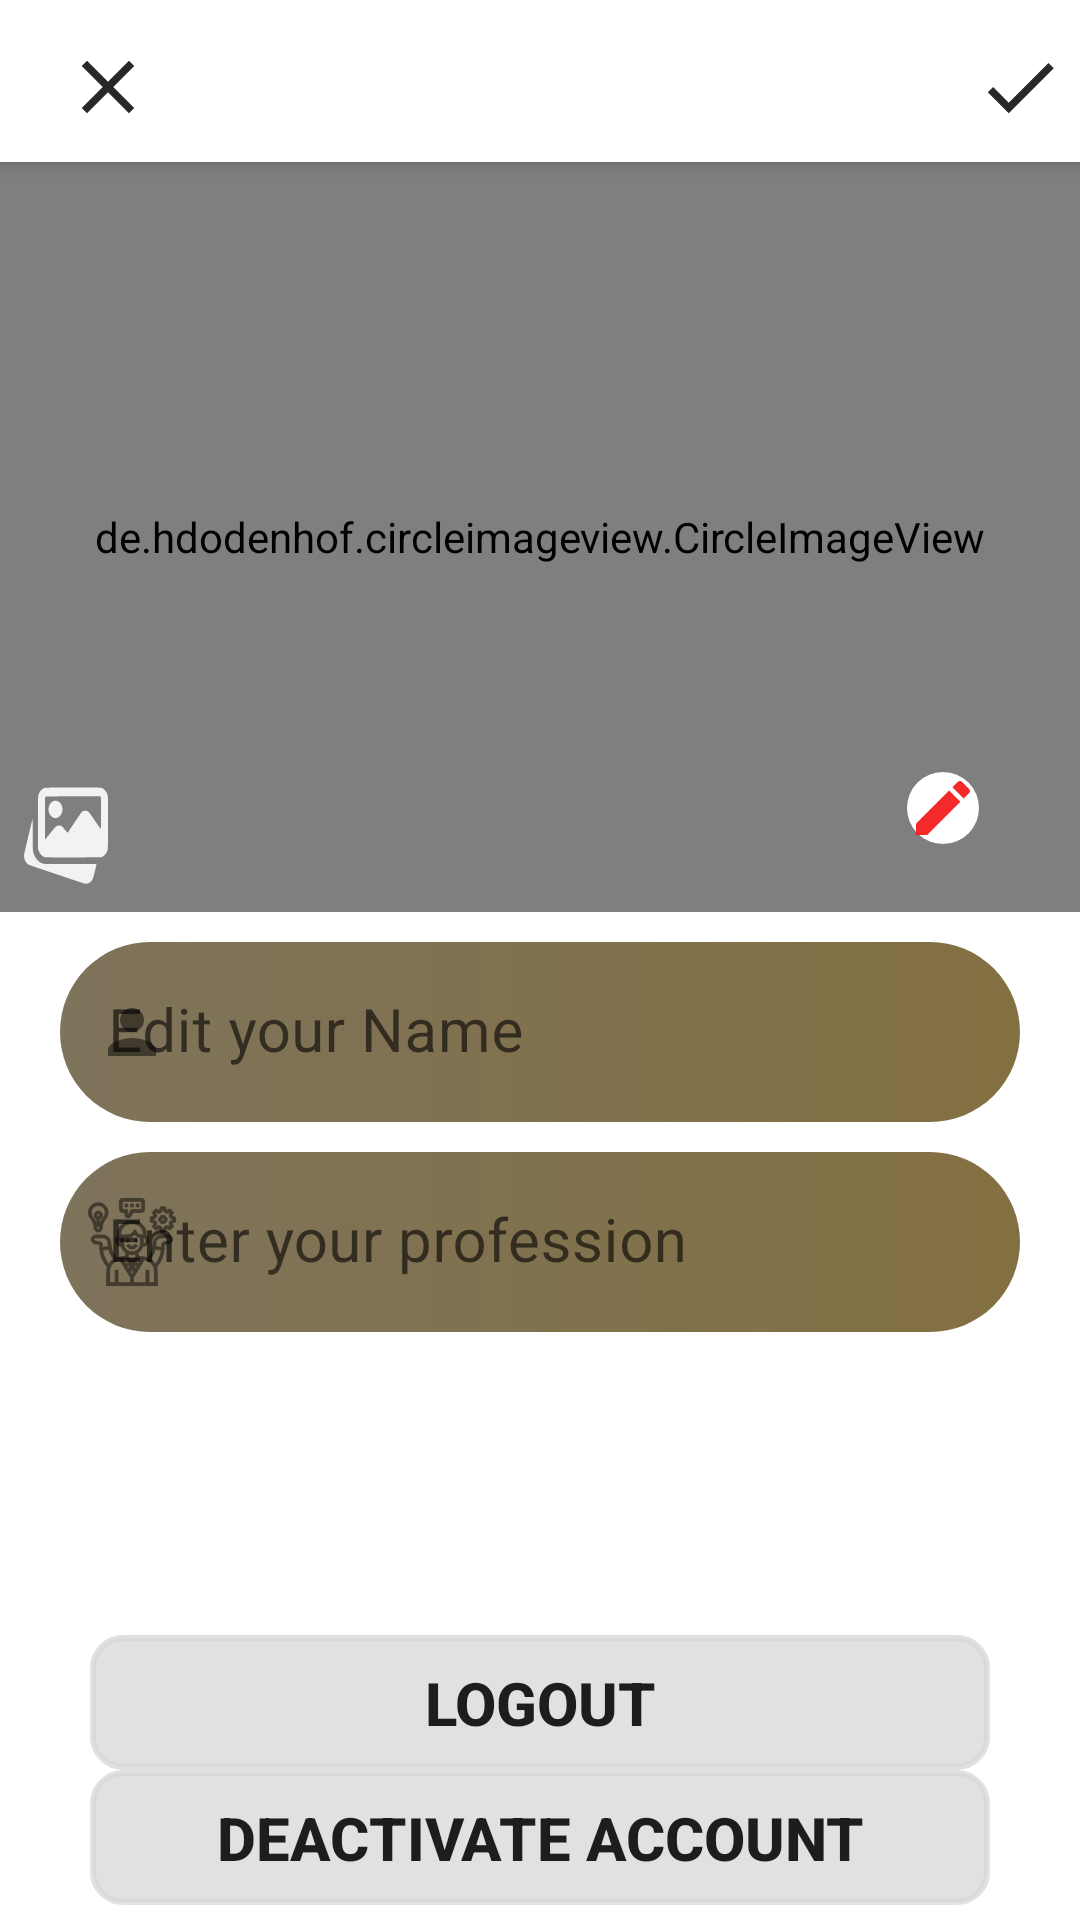

Screen size 1080px×1920px. Icon name, then its center in pixels as point (x, y):
close: point (108, 87)
save: point (1021, 88)
